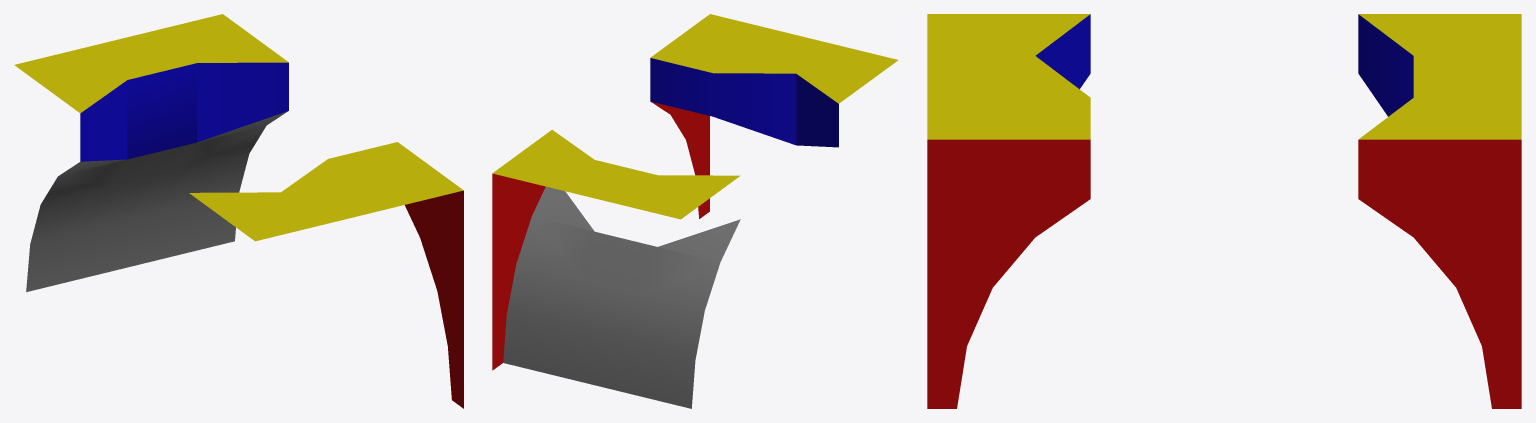
Rendered from Bridge.fbx.
3 renders of one model, left to right at view 1: azimuth 30°, elevation 25°; view 2: azimuth 150°, elevation 25°; view 3: azimuth 270°, elevation 25°, orthographic. The views are drawn at different scales.
Visible parts, largest first — view 1: Bridge; view 2: Bridge; view 3: Bridge.
Part boxes in pixels (x1,y1,x2,y2): Bridge: [14, 14, 463, 408]; Bridge: [492, 14, 898, 408]; Bridge: [927, 14, 1521, 408].
Bounding box in the file's own units: 100 × 100 × 200.
